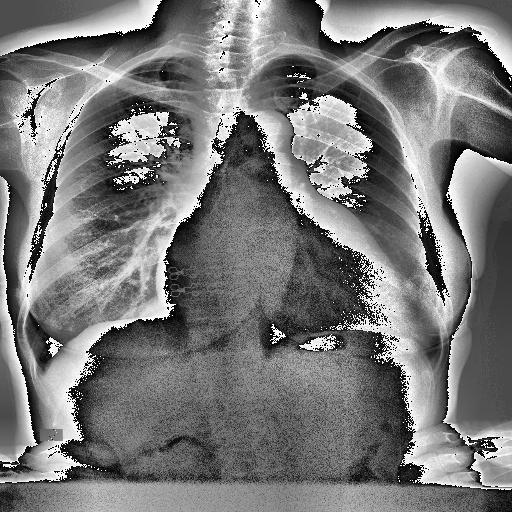0- Aortic enlargement: (234, 108, 296, 151), (238, 111, 294, 155)
11- Pleural thickening: (133, 54, 197, 65)
3- Cardiomegaly: (152, 206, 412, 331), (153, 268, 417, 344), (154, 256, 405, 332)
